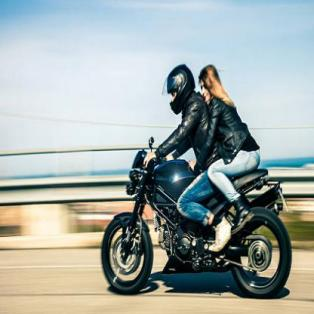Motocicleta: (96, 131, 295, 295)
